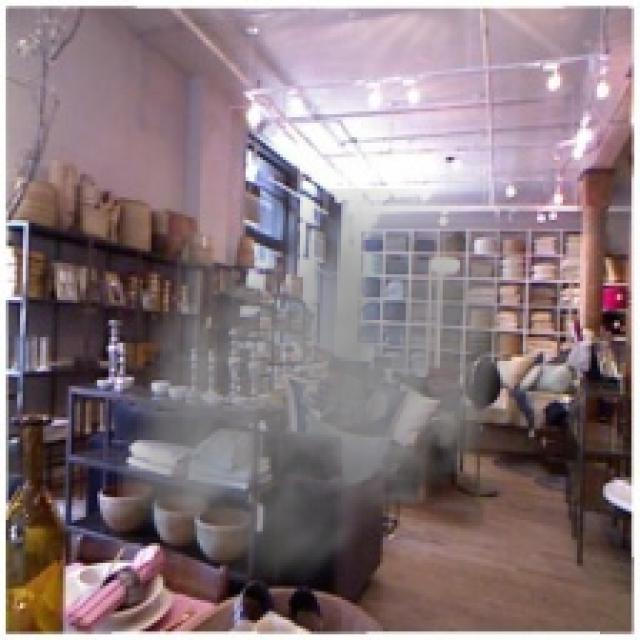smoke: (117, 189, 517, 600)
